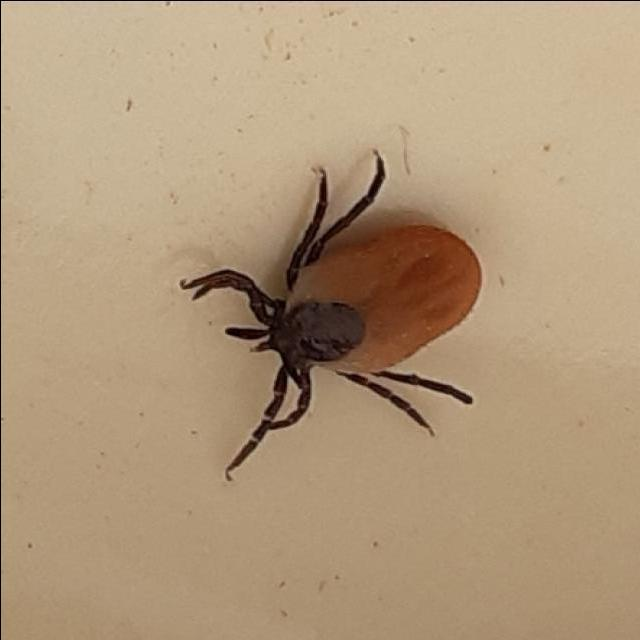Ixodes Ricinus-F-Fed: (176, 152, 484, 479)
